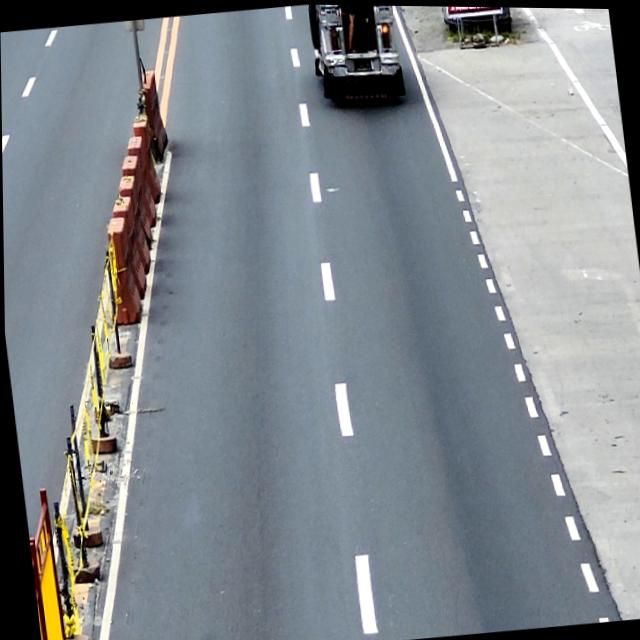Jeep: (306, 4, 406, 110)
License-Plate: (352, 56, 372, 71)
